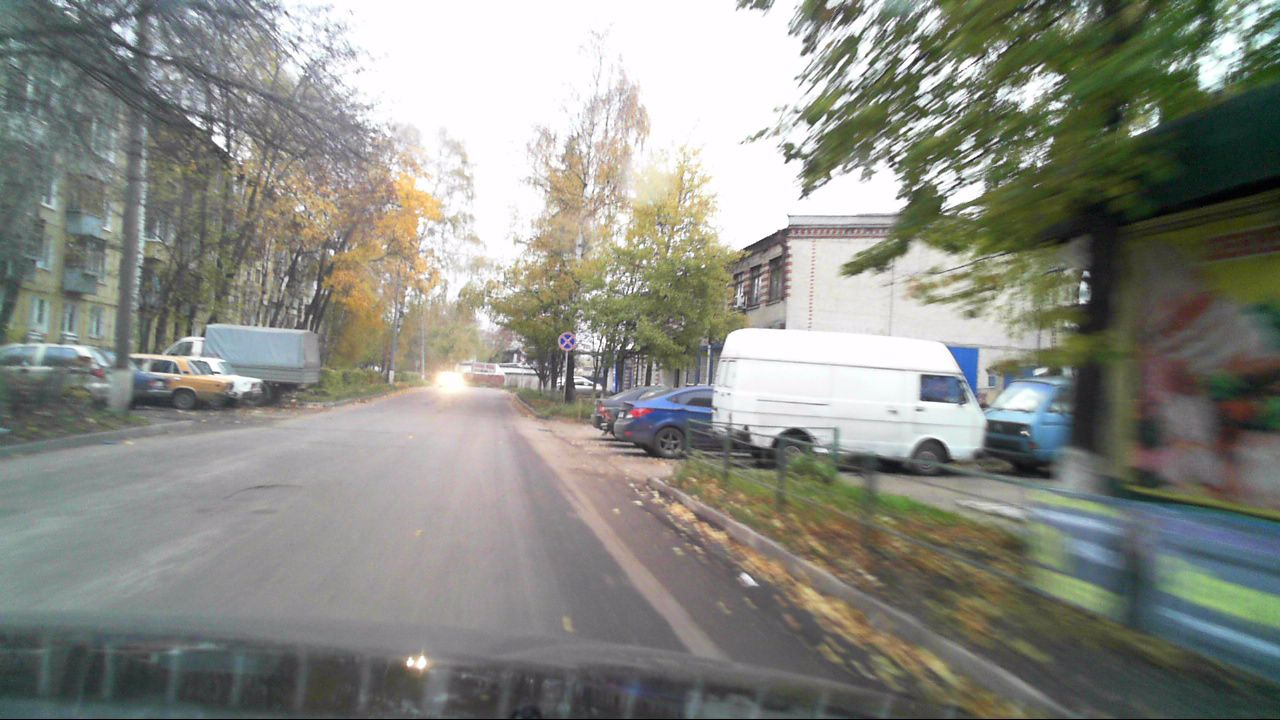No Parking: (557, 330, 576, 351)
